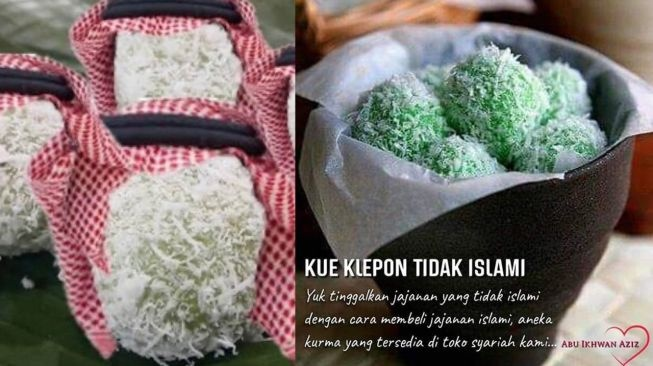klepon: (445, 50, 558, 146)
